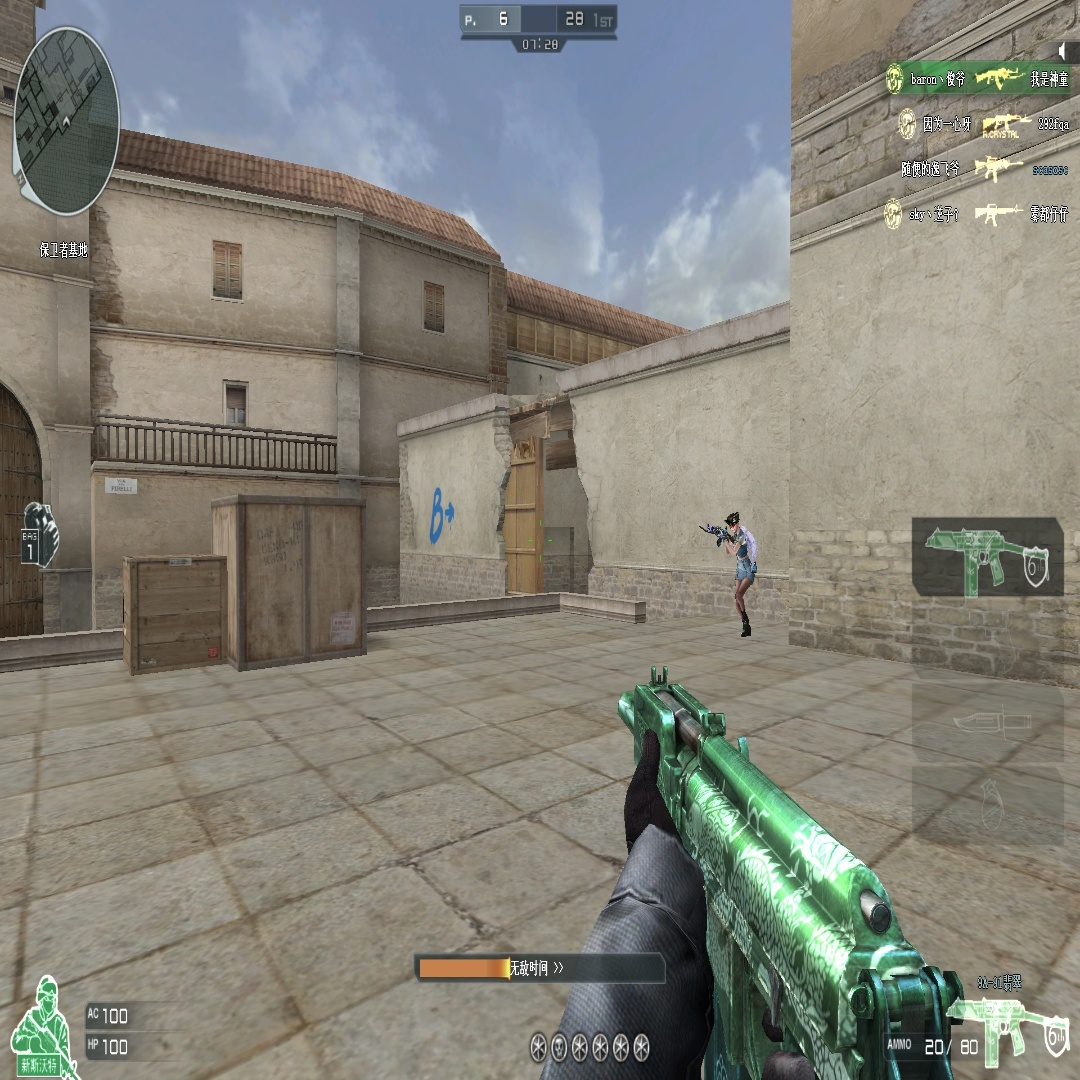head: (726, 511, 740, 536)
p: (700, 509, 758, 637)
